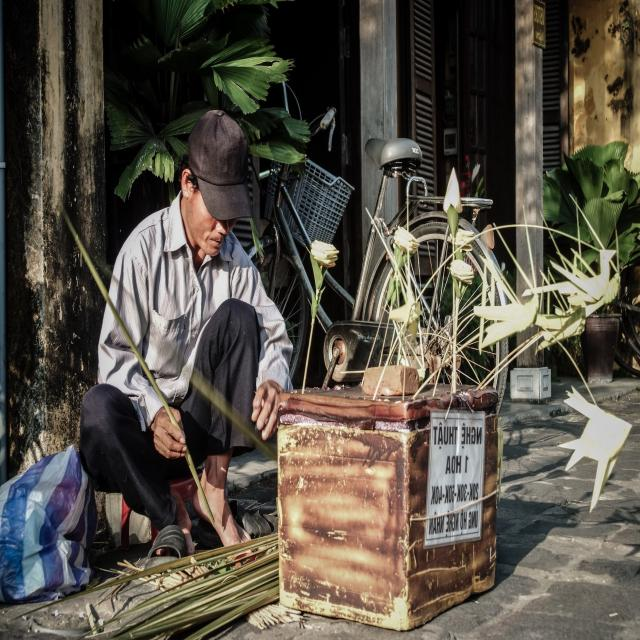adult: (81, 113, 293, 556)
